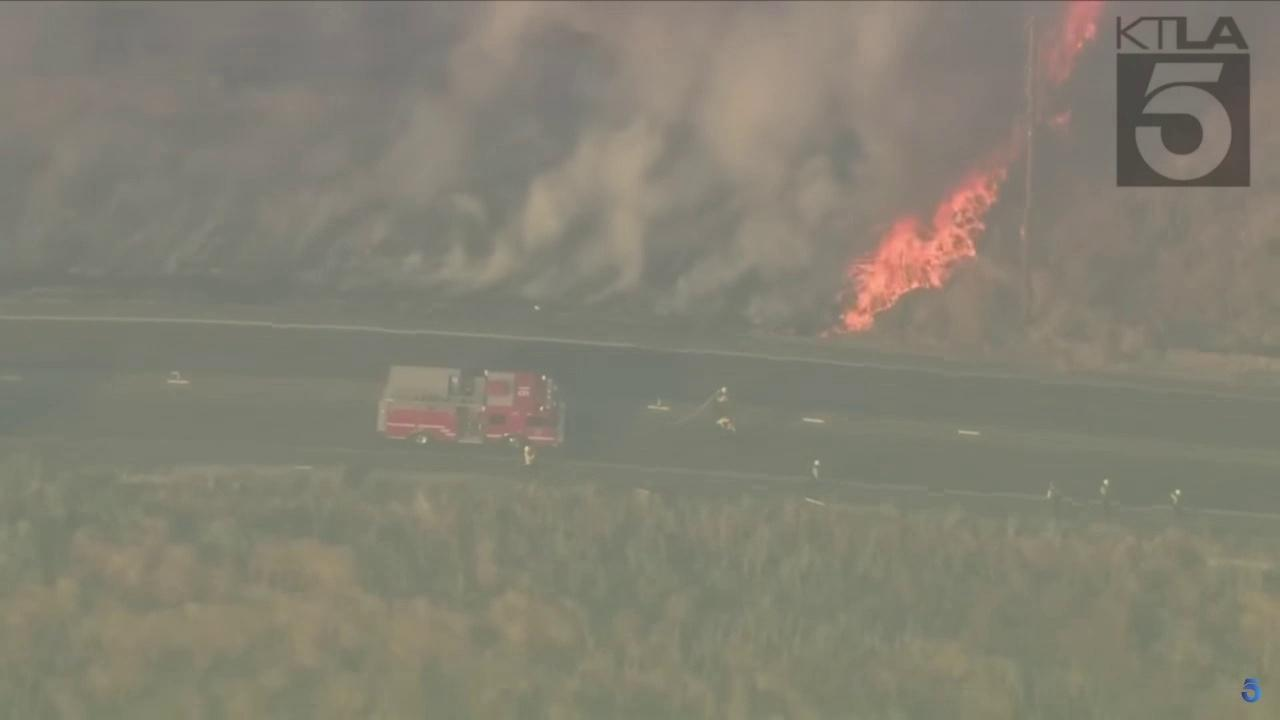fire: (828, 157, 1011, 337), (1037, 0, 1107, 93), (1043, 108, 1073, 147)
smoke: (0, 0, 1022, 329)
